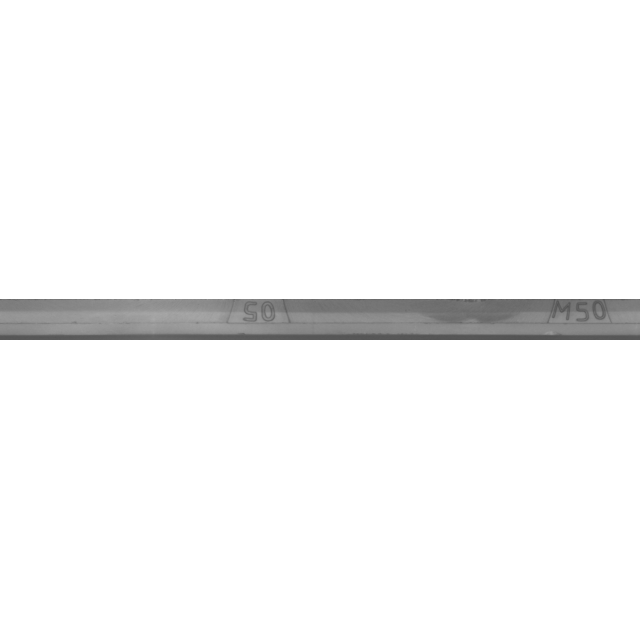mohao: (479, 270, 640, 370)
xuehao: (159, 270, 359, 370)
